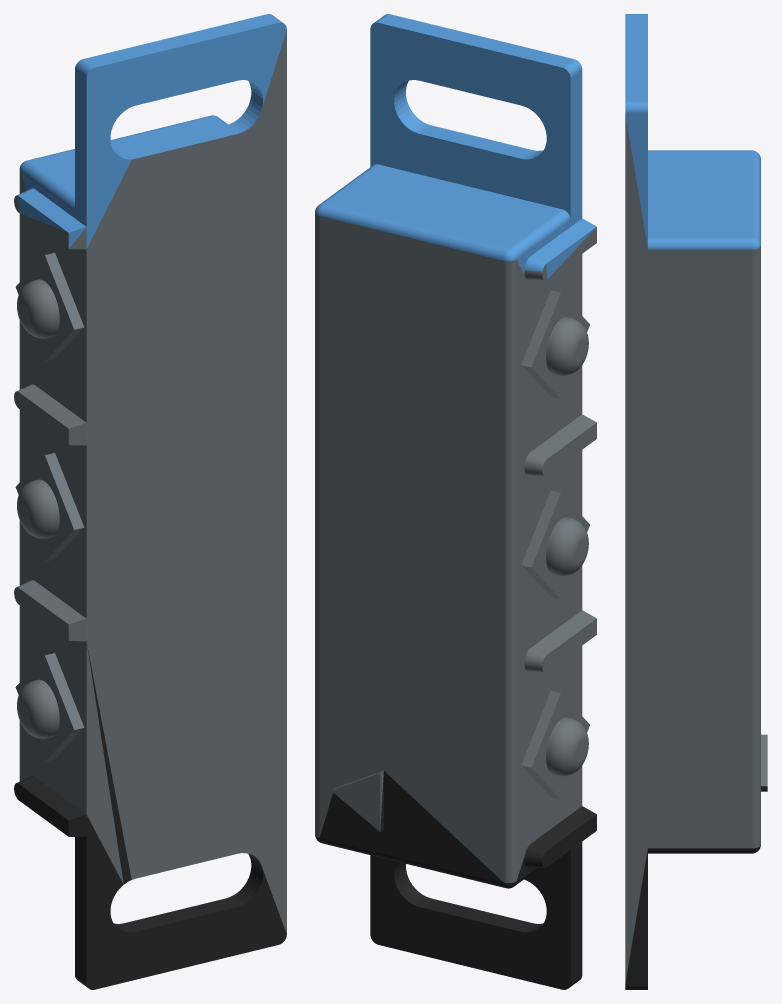
Rendered from MagneticSwitch.dae.
The picture shows the model from 3 angles, left to right: view 1: azimuth 30°, elevation 25°; view 2: azimuth 150°, elevation 25°; view 3: azimuth 270°, elevation 25°; orthographic projection. The views are drawn at different scales.
Visible parts, largest first — view 1: magnetic_switch_w_leads; view 2: magnetic_switch_w_leads; view 3: magnetic_switch_w_leads.
Part boxes in pixels (x1=…): magnetic_switch_w_leads: x1=14, y1=14, x2=286, y2=989; magnetic_switch_w_leads: x1=315, y1=14, x2=596, y2=989; magnetic_switch_w_leads: x1=625, y1=14, x2=767, y2=989.
Size of the model in its own units: 0.0288 by 0.016 by 0.11.
